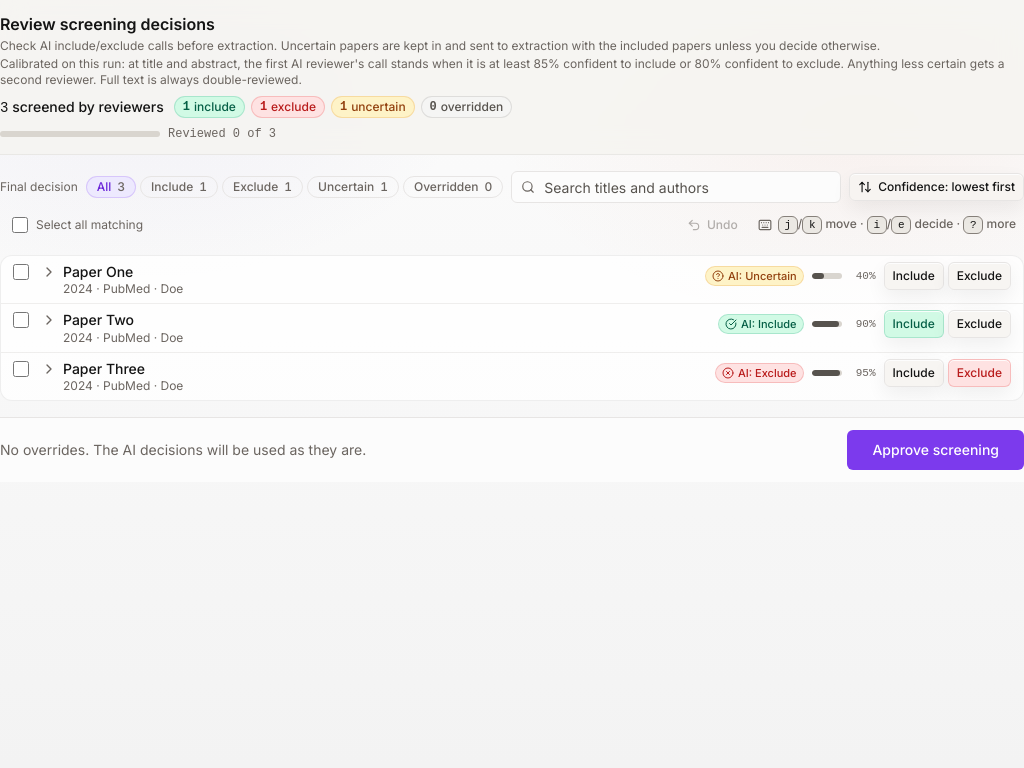
it: ScreeningReviewView › confirms with a summary before approving
Click the button "Approve screening". click: click(936, 450)
box: [847,430,1023,470]
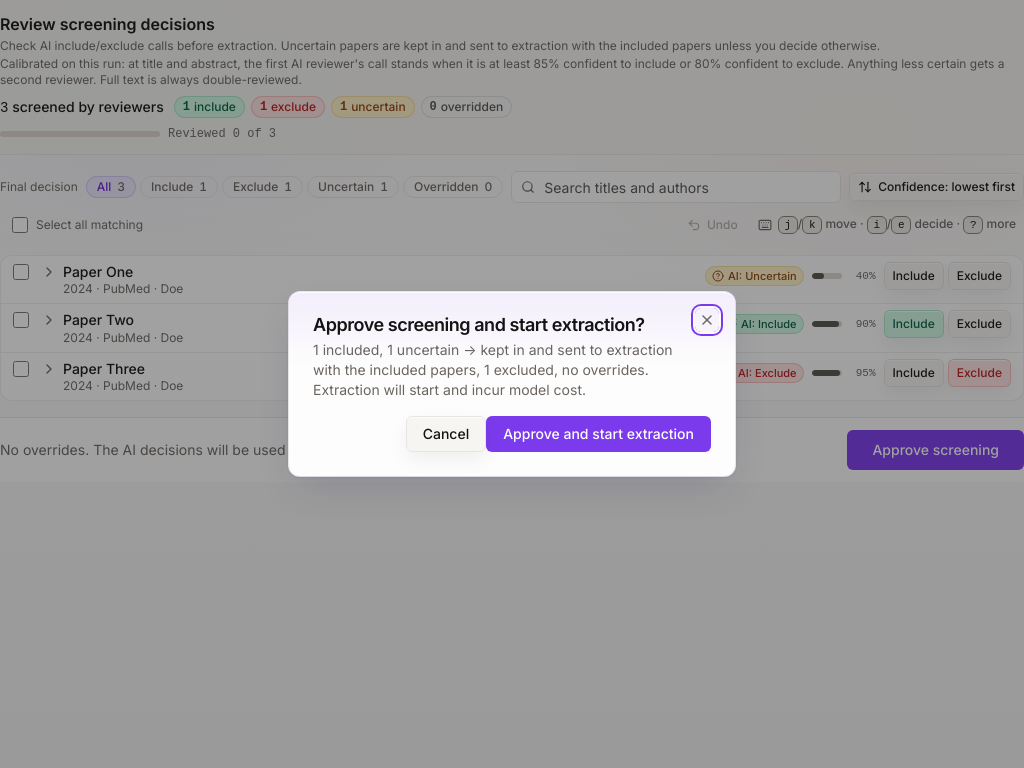
Expected: the dialog shows "1 included, 1 uncertain → kept in and sent to extraction with the included papers, 1 excluded, no overrides. Extraction will start and incur model cost.", [313,341,673,398]
Click the button "Approve and start extraction". click: click(599, 434)
box: [486,416,711,452]
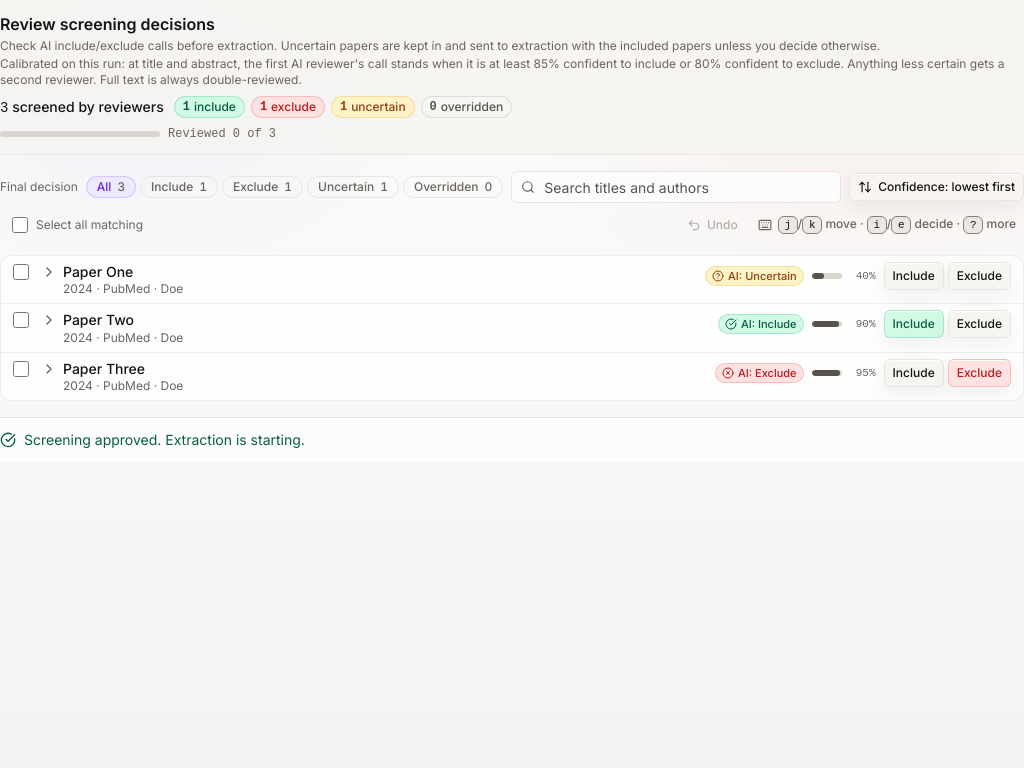
Expected: the text "Screening approved. Extraction is starting." is shown, [0,431,305,448]
